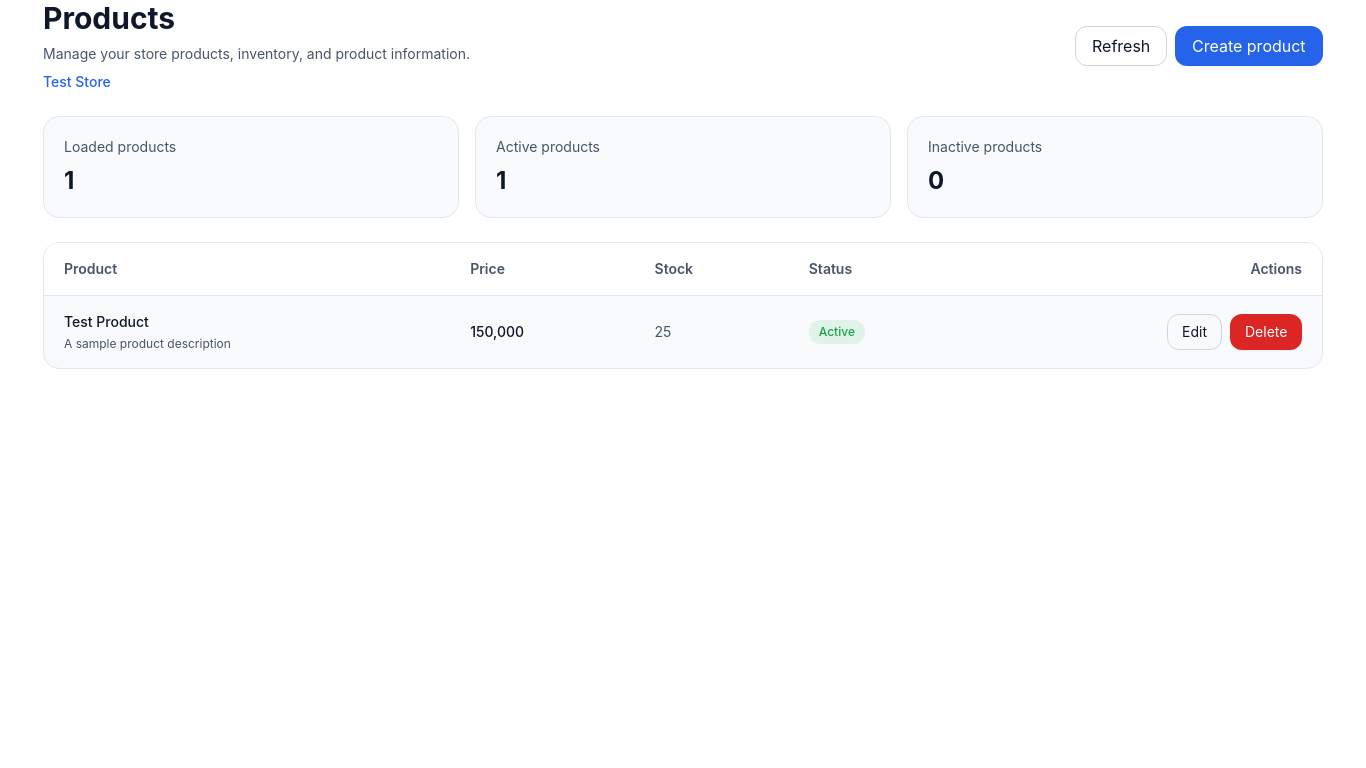
Test case: ProductsPage › should display delete error when deletion fails
This screenshot has width=1366, height=768.
Click the button "Delete".
click(1266, 332)  # box [1230, 314, 1302, 350]
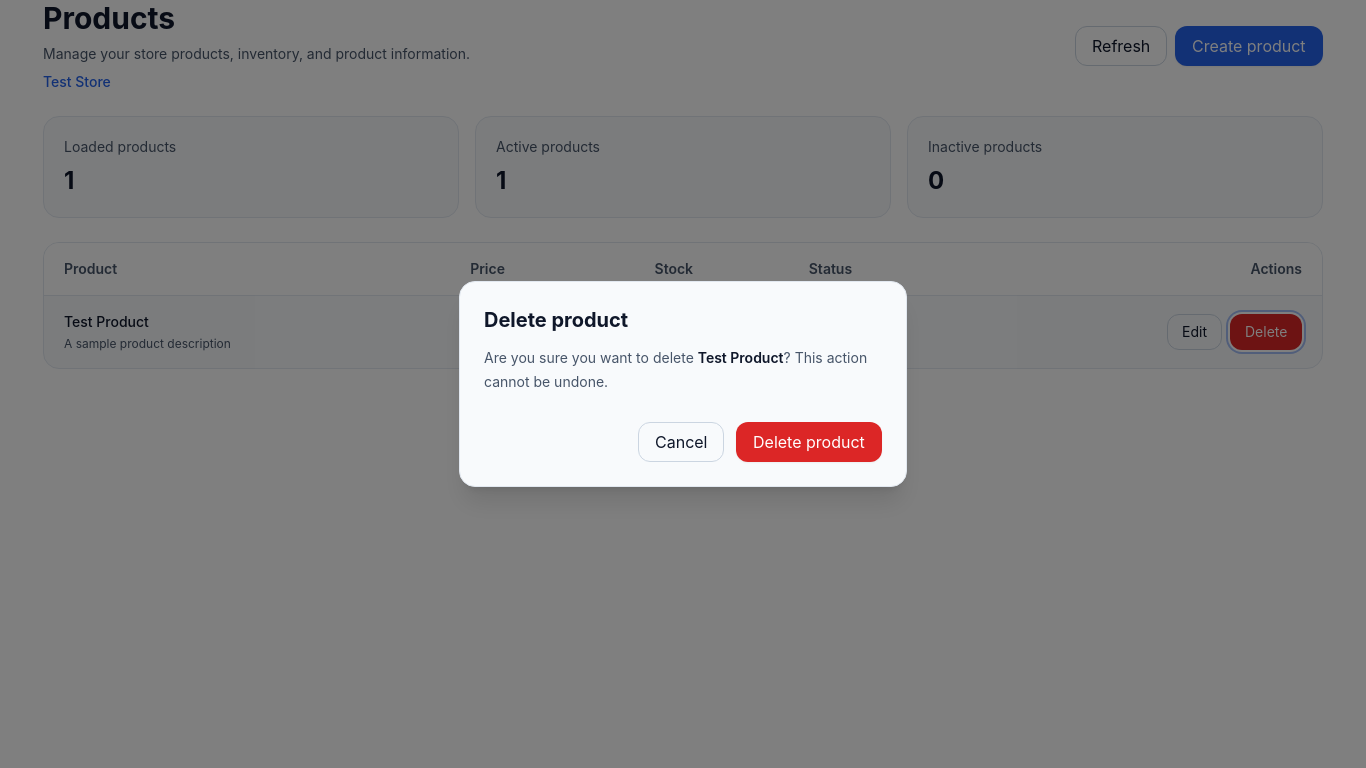
Click the button "Delete product".
click(809, 442)  # box [736, 422, 882, 462]
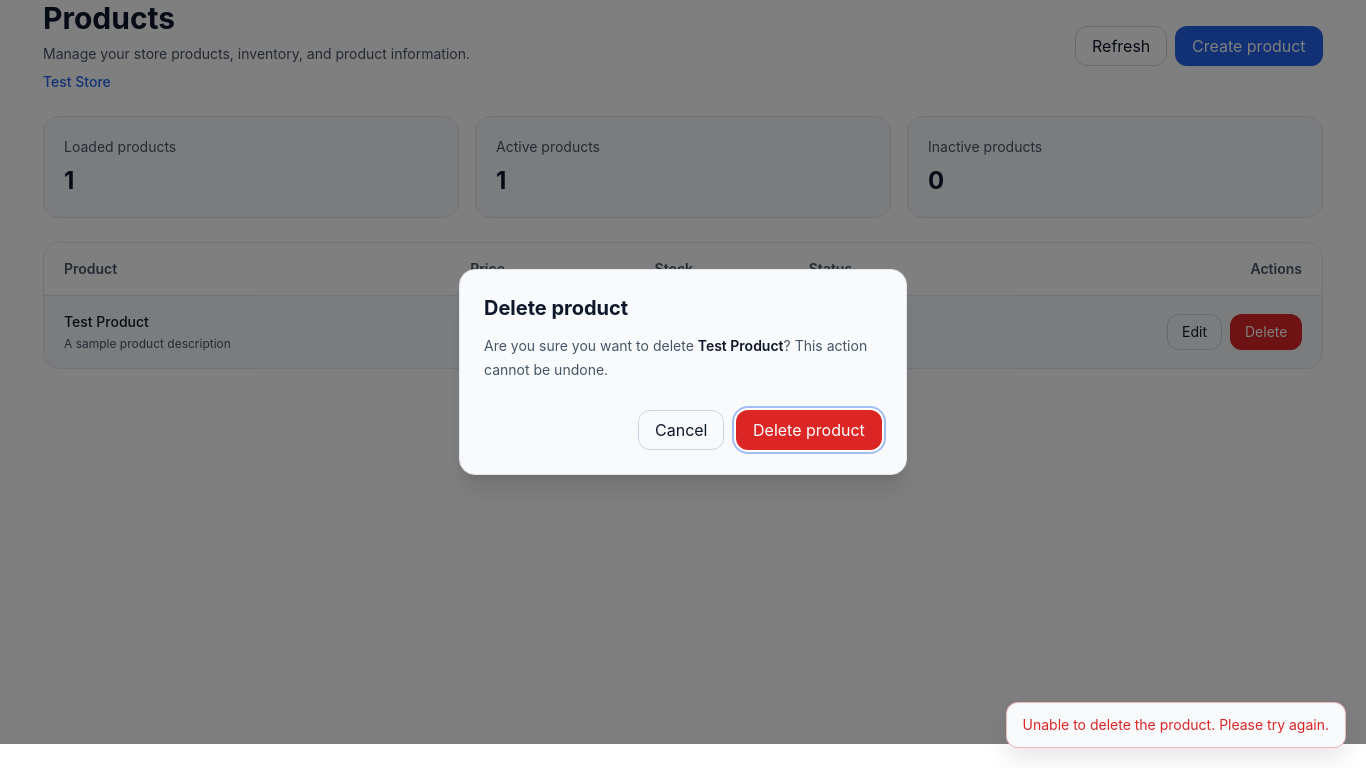
Now the text "Unable to delete the product. Please try again." is shown, box [1006, 702, 1346, 748]
